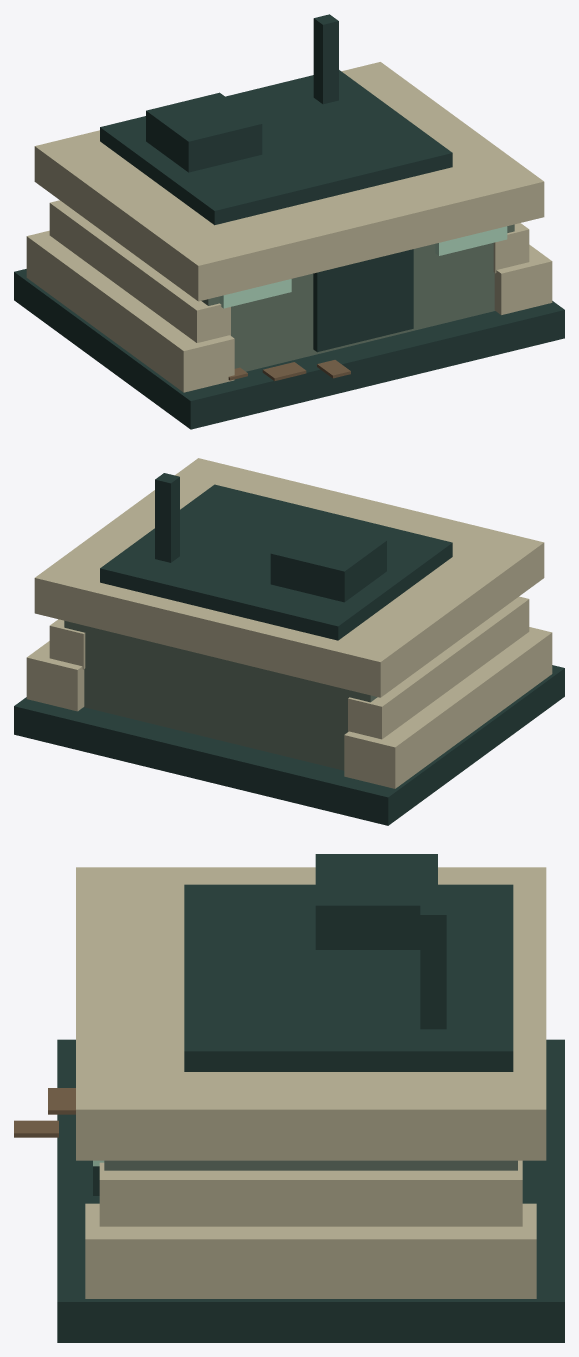
The model's file is bunker-weathered.glb.
3 views of the same model, one above another, from view 1: azimuth 30°, elevation 25°; view 2: azimuth 150°, elevation 25°; view 3: azimuth 270°, elevation 25° (orthographic). The views are drawn at different scales.
Parts seen in each view (by area): view 1: bunker-weathered; view 2: bunker-weathered; view 3: bunker-weathered.
Part boxes in pixels (x1,y1,x2,y2): bunker-weathered: [14, 14, 564, 429]; bunker-weathered: [14, 458, 564, 825]; bunker-weathered: [14, 854, 564, 1342].
Bounding box in the file's own units: 3.3 × 2.1 × 2.93.
